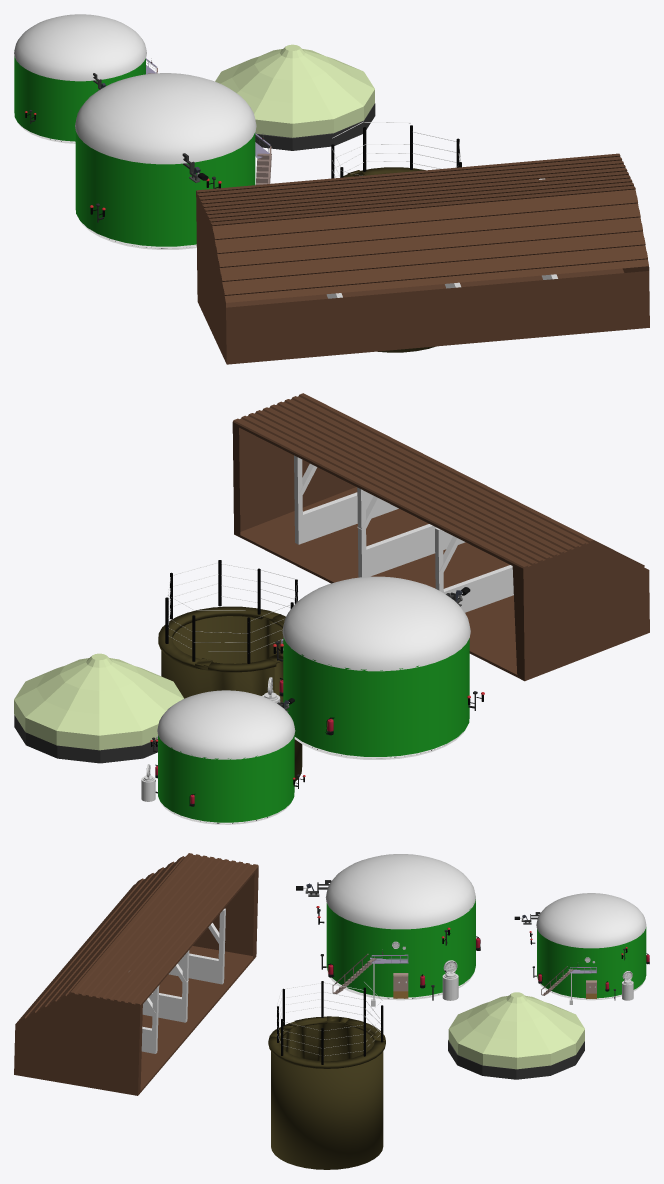
The model's file is biogaz_structure.glb.
3 views of the same model, one above another, from view 1: azimuth 30°, elevation 25°; view 2: azimuth 150°, elevation 25°; view 3: azimuth 270°, elevation 25° (orthographic). The views are drawn at different scales.
Visible parts, largest first — view 1: Cube.050, Sphere, Cylinder, Cylinder.073, Sphere.015, Cylinder.036, Cylinder.072, Cylinder.074; view 2: Cube.050, Cylinder, Sphere, Cylinder.073, Cylinder.074, Cylinder.036, Sphere.015, Cube.052, Cube.051, Cube.053, Cylinder.072; view 3: Cube.050, Cylinder.074, Cylinder, Sphere, Cylinder.073, Cylinder.036, Sphere.015, Cylinder.072, Cube.053, Cube.052, Cube.051.
Part boxes in pixels (left/top/right/bottom): Cube.050: left=196, top=153, right=649, bottom=364; Sphere: left=75, top=73, right=256, bottom=164; Cylinder: left=75, top=131, right=255, bottom=246; Cylinder.073: left=215, top=44, right=374, bottom=137; Sphere.015: left=14, top=14, right=146, bottom=81; Cylinder.036: left=14, top=50, right=145, bottom=141; Cylinder.072: left=255, top=103, right=375, bottom=150; Cylinder.074: left=343, top=167, right=436, bottom=352; Cube.050: left=232, top=393, right=649, bottom=681; Cylinder: left=283, top=638, right=469, bottom=756; Sphere: left=282, top=576, right=470, bottom=671; Cylinder.073: left=14, top=653, right=183, bottom=750; Cylinder.074: left=158, top=606, right=302, bottom=781; Cylinder.036: left=158, top=735, right=294, bottom=822; Sphere.015: left=157, top=690, right=295, bottom=759; Cube.052: left=357, top=487, right=465, bottom=577; Cube.051: left=294, top=455, right=398, bottom=544; Cube.053: left=435, top=527, right=513, bottom=612; Cylinder.072: left=14, top=715, right=157, bottom=763; Cube.050: left=14, top=853, right=258, bottom=1095; Cylinder.074: left=268, top=1016, right=385, bottom=1169; Cylinder: left=326, top=899, right=475, bottom=997; Sphere: left=325, top=854, right=475, bottom=929; Cylinder.073: left=448, top=992, right=584, bottom=1069; Cylinder.036: left=537, top=927, right=646, bottom=998; Sphere.015: left=536, top=893, right=646, bottom=948; Cylinder.072: left=448, top=1040, right=584, bottom=1079; Cube.053: left=169, top=908, right=225, bottom=984; Cube.052: left=142, top=950, right=189, bottom=1022; Cube.051: left=141, top=985, right=159, bottom=1053.
Size of the model in its own units: 96.79 by 57.57 by 162.
Materials: 42 (2 with a texture image).
